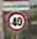limite 40: (6, 11, 27, 33)
